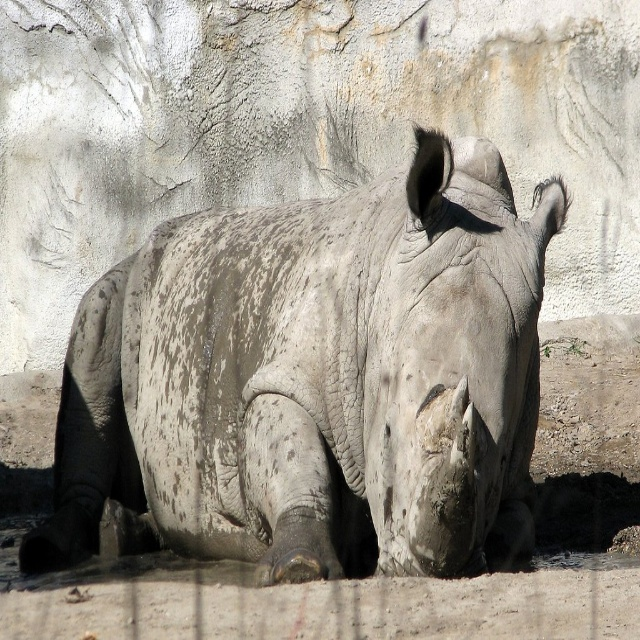Rhinoceros: (16, 114, 574, 582)
